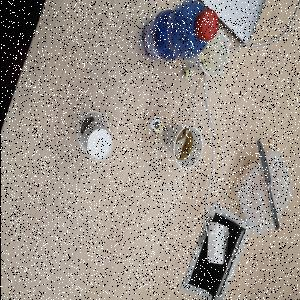Cup: (184, 30, 230, 78), (162, 124, 204, 170), (77, 112, 113, 163)
Plastic-bottle: (142, 1, 220, 62)
